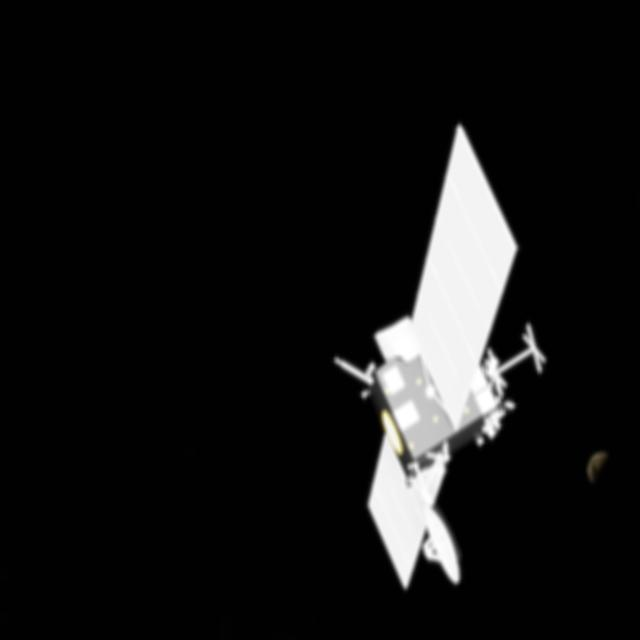satellite: (334, 111, 546, 583)
